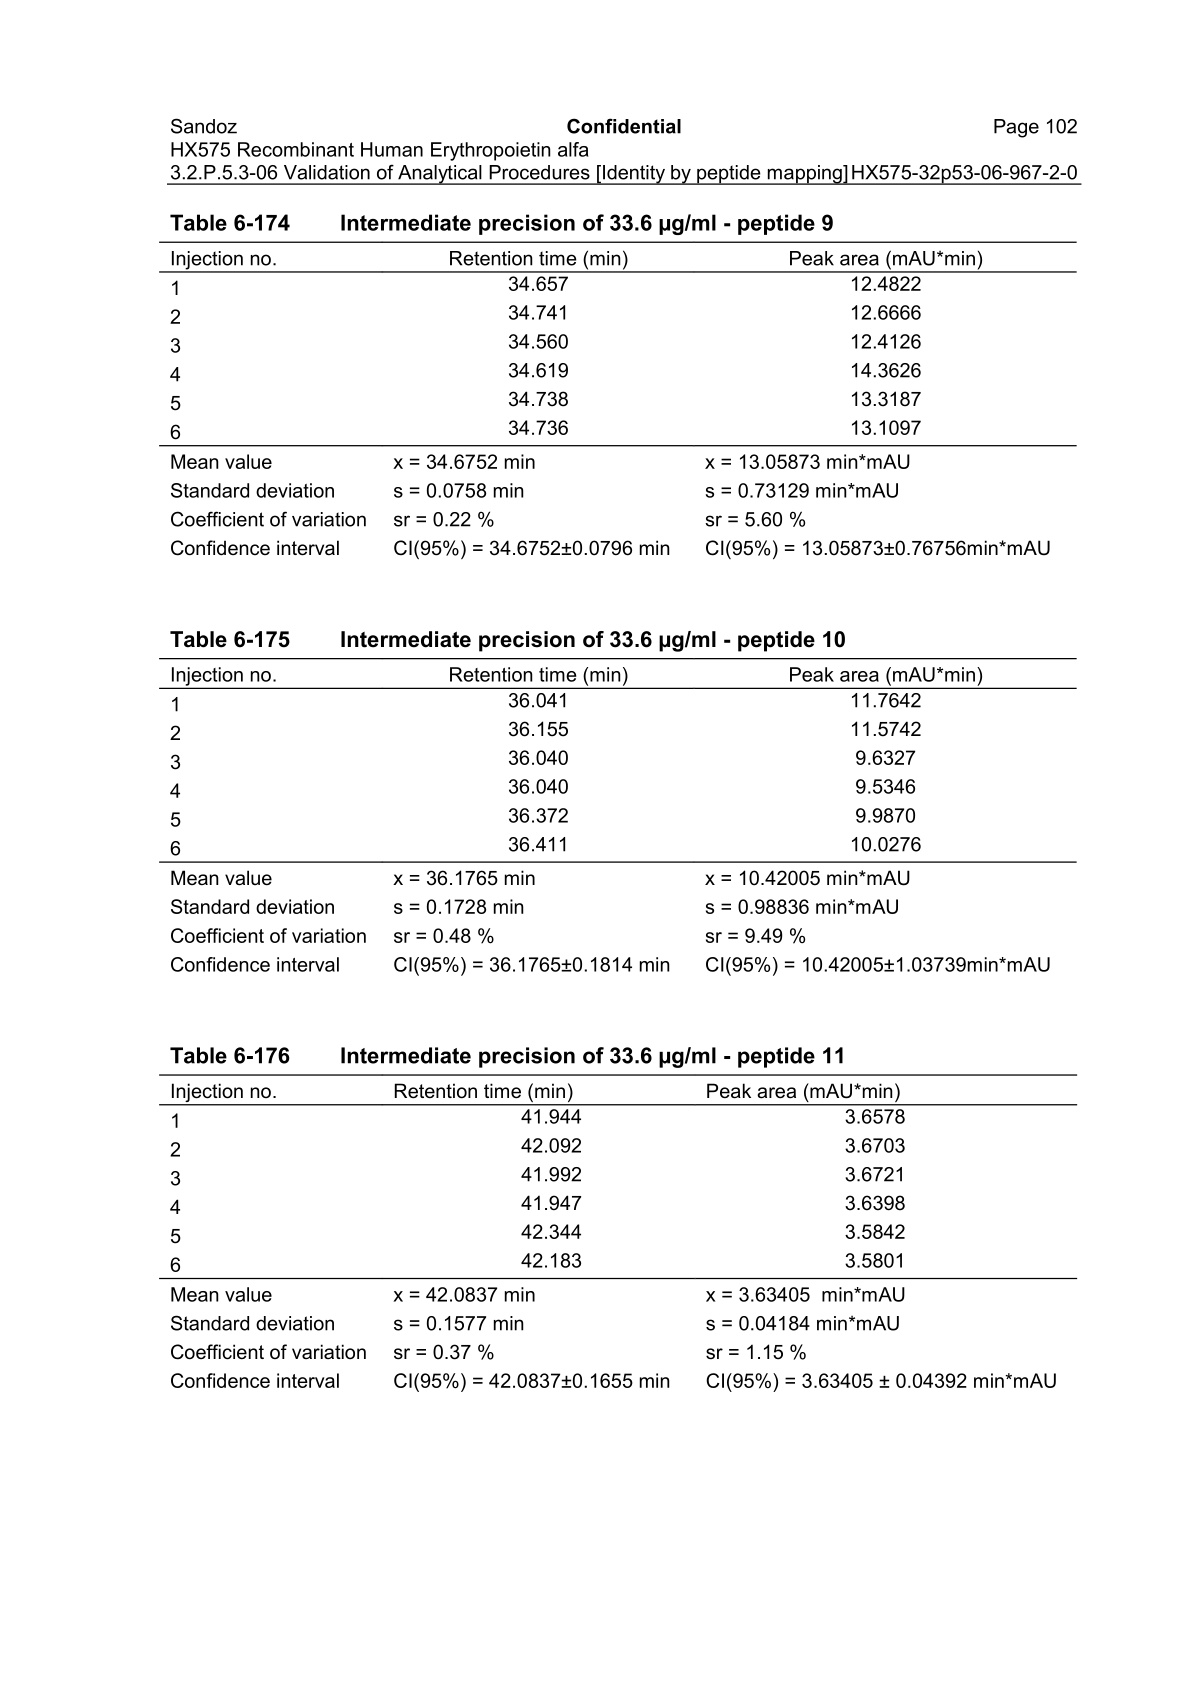partial_lined: (157, 656, 1078, 981), (159, 240, 1078, 560), (157, 1073, 1078, 1392)
